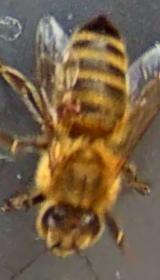varroa_mite: (48, 96, 78, 131)
